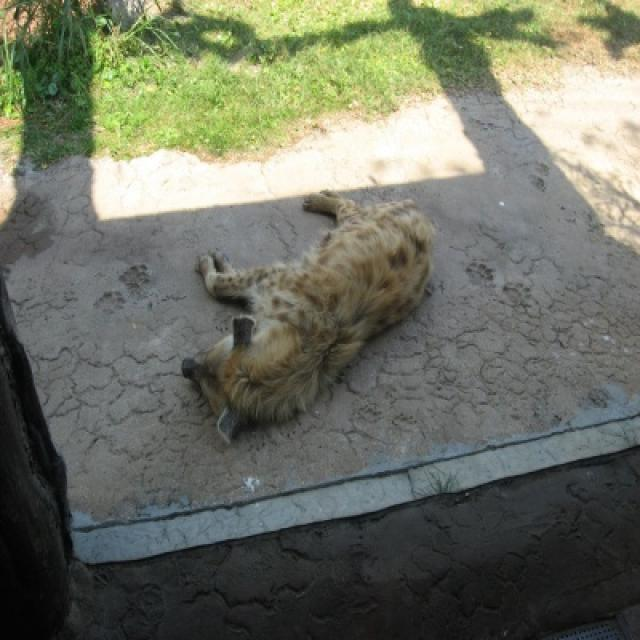hyena: (182, 202, 437, 443)
